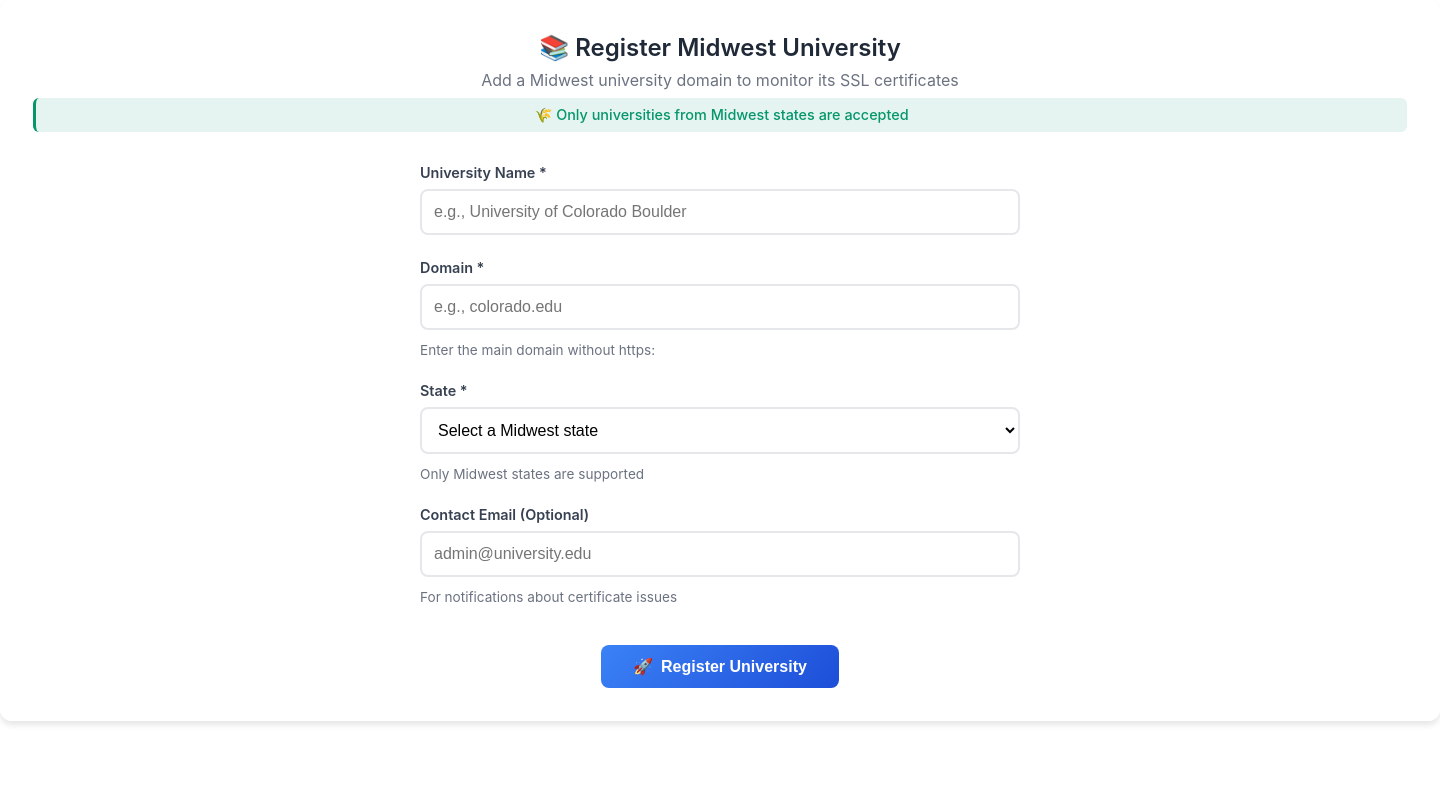
UniversityRegistration Component › handles registration error
Type "Test University" into the field labelled "University Name *". click: (720, 212)
box: [420, 189, 1020, 235]
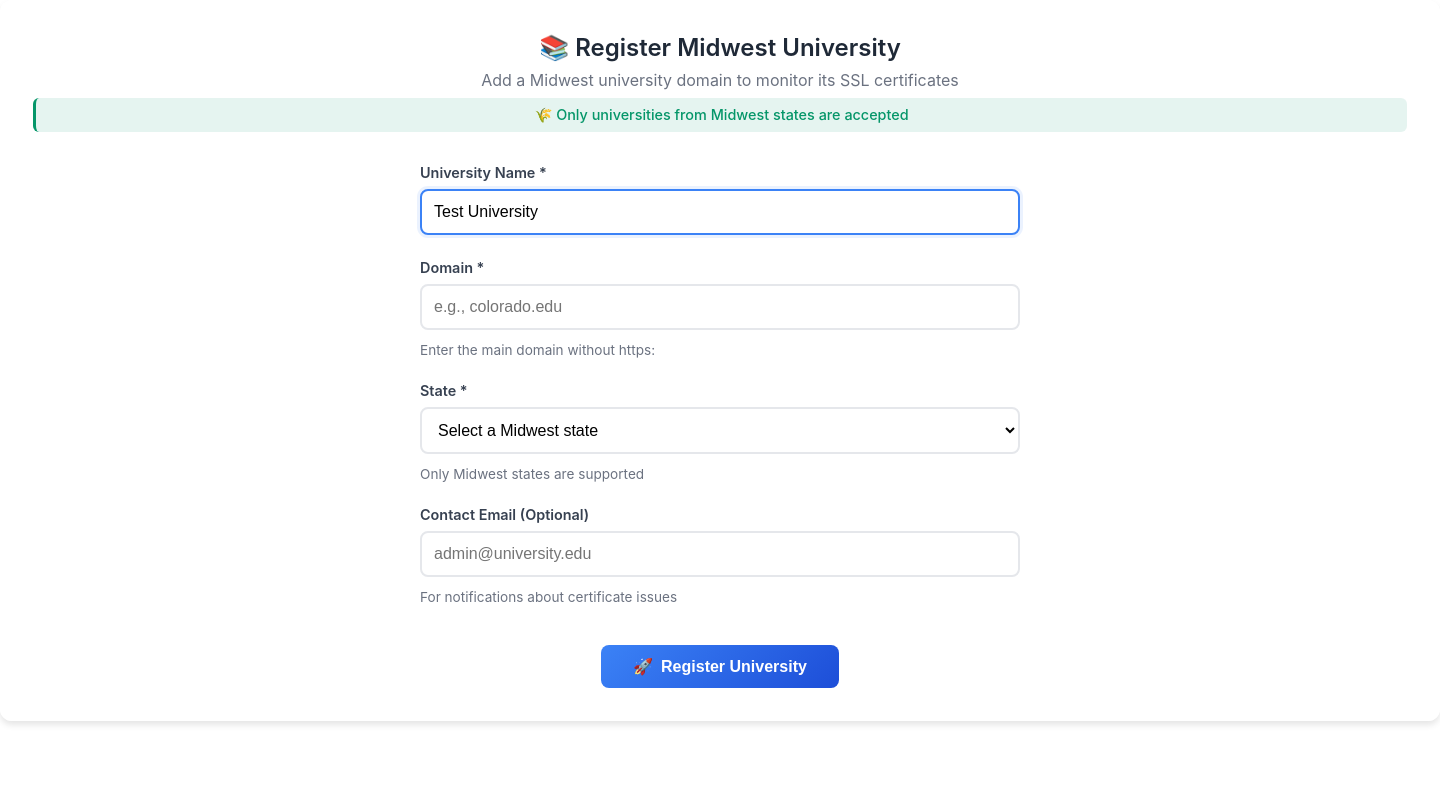
Type "existing.edu" into the field labelled "Domain *". click: (720, 307)
box: [420, 284, 1020, 330]
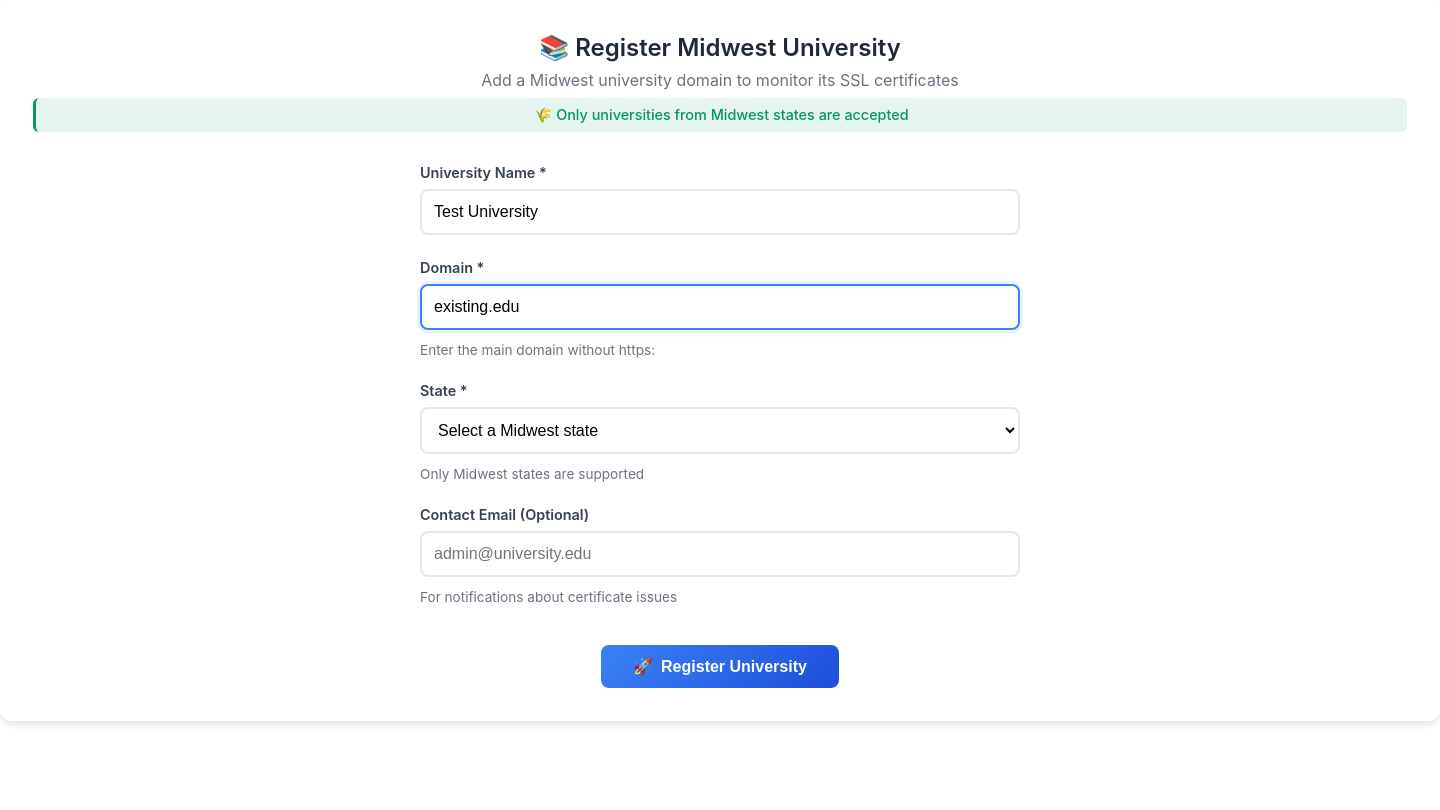
Select "Illinois" in the dropdown labelled "State *". click: (720, 430)
box: [420, 407, 1020, 454]
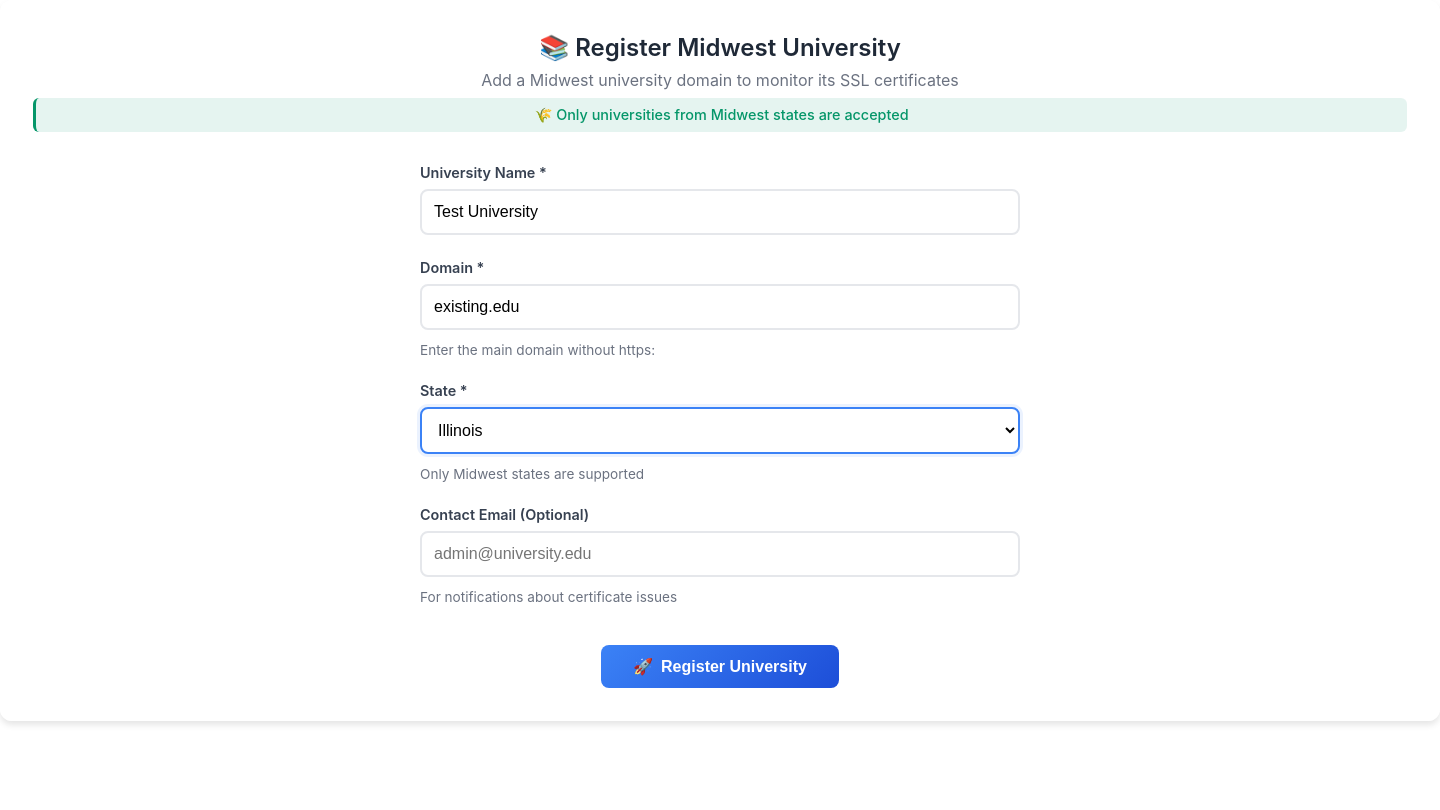
Type "admin@existing.edu" into the field labelled "Contact Email (Optional)". click: (720, 554)
box: [420, 531, 1020, 577]
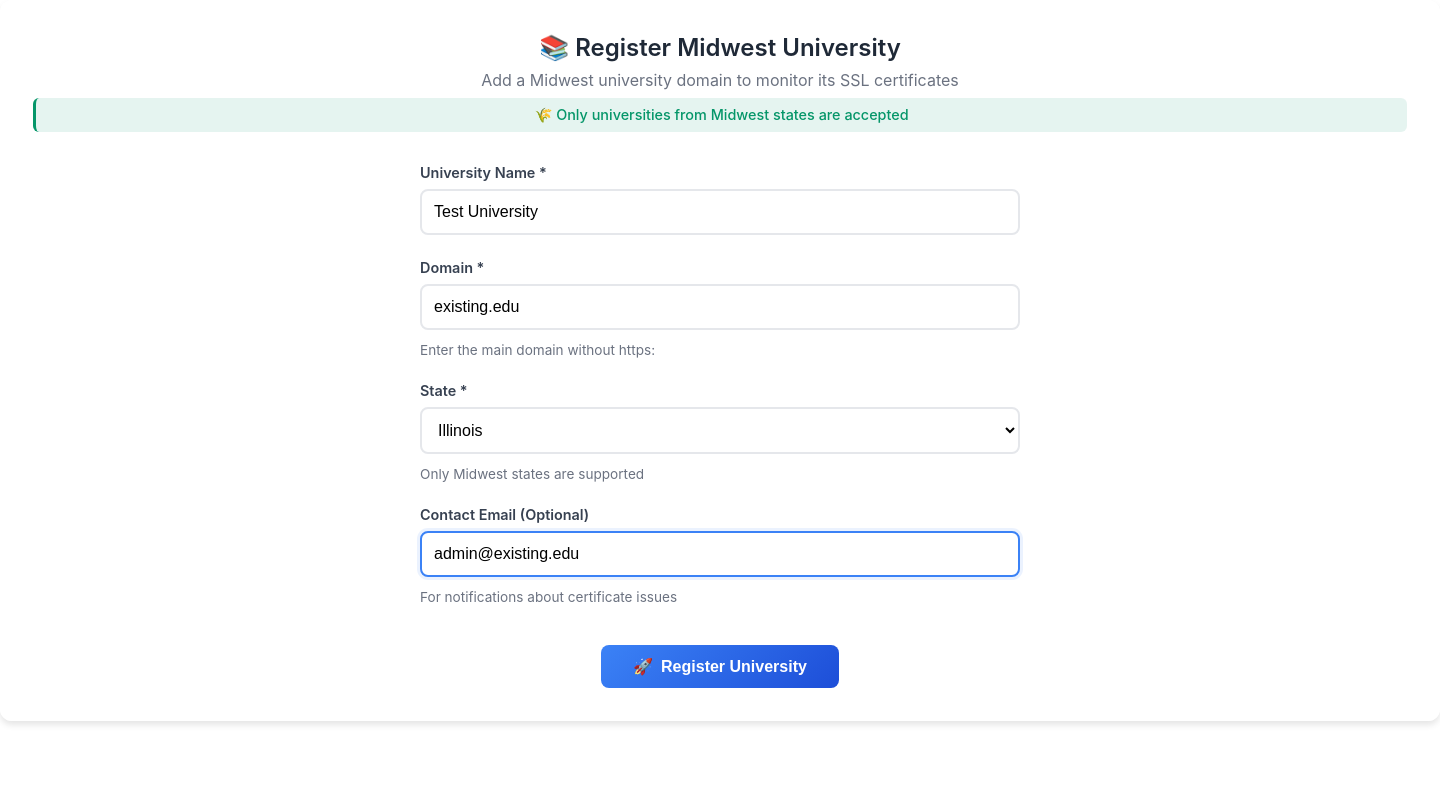
Click the button "🚀 Register University". click: (720, 666)
box: [601, 645, 839, 688]
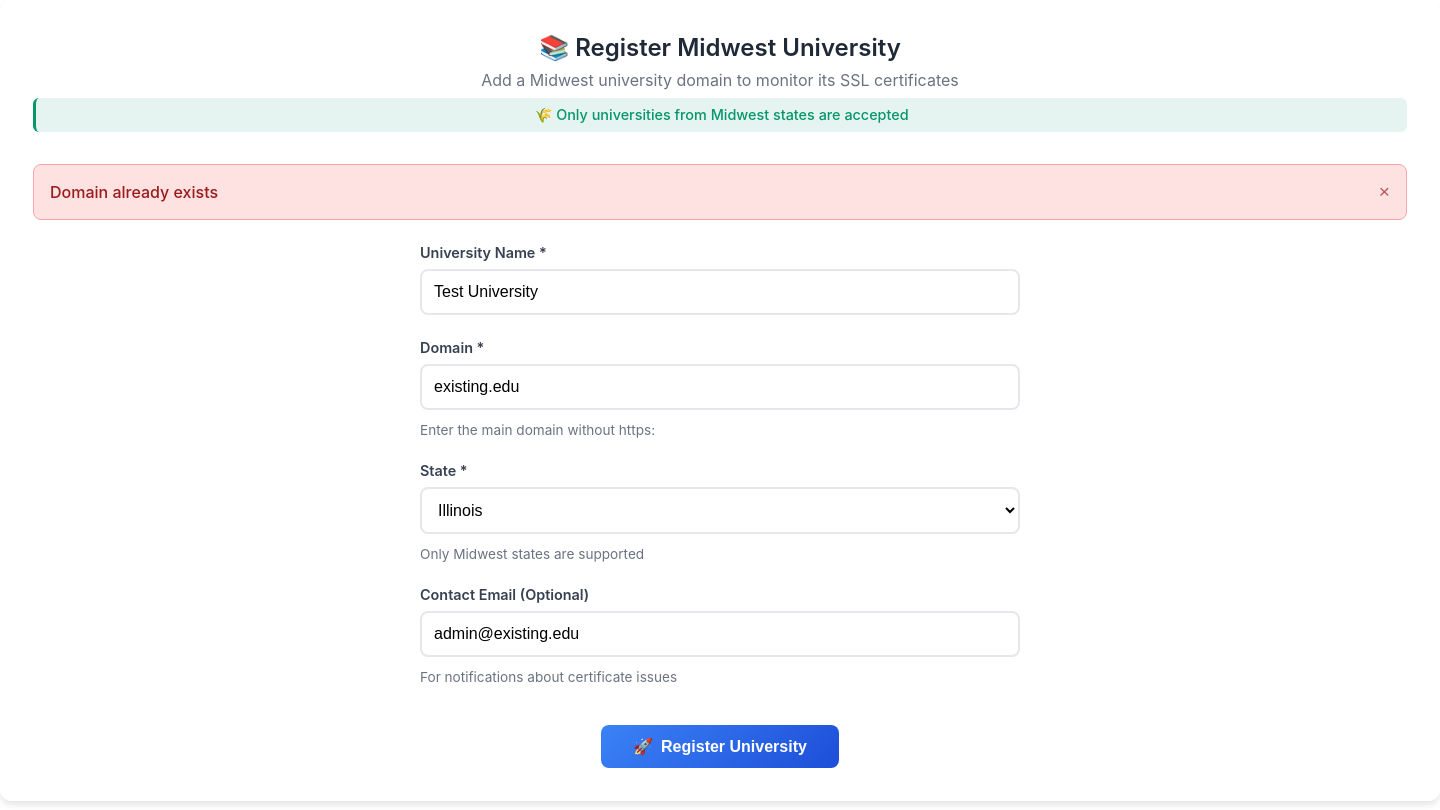
Expected: the text "Domain already exists" is shown, [50, 182, 218, 202]
